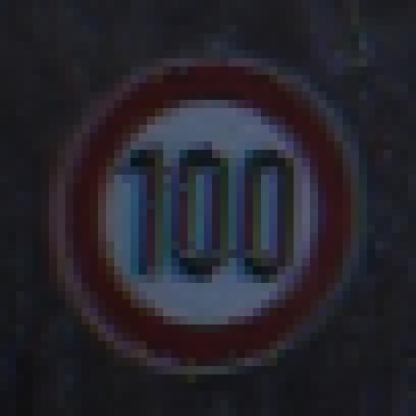Speed Limit 100: (62, 58, 354, 364)
